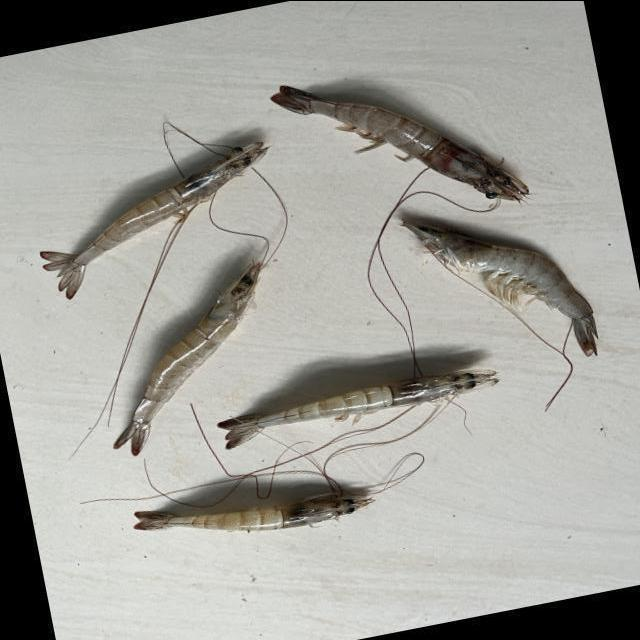shrimp: (39, 140, 267, 298), (271, 84, 529, 199), (113, 261, 261, 454), (401, 220, 598, 355), (217, 369, 499, 448), (133, 495, 374, 531)
